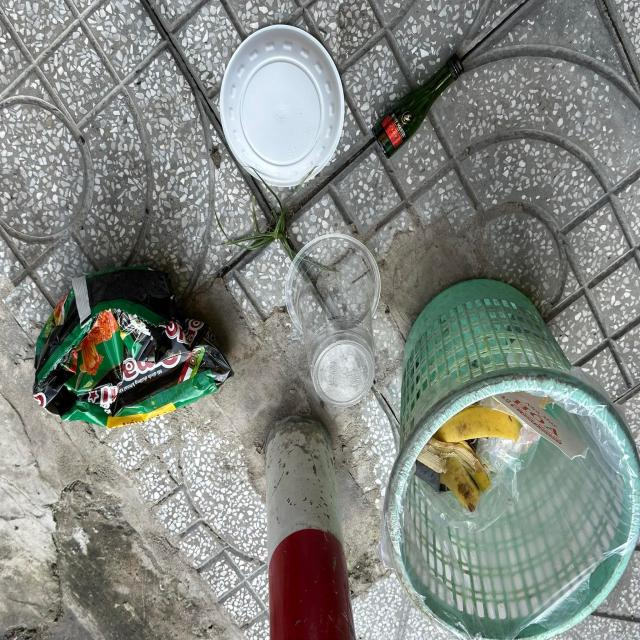bottle: (372, 53, 464, 159)
plastic glass: (285, 234, 382, 407)
plastic holder: (220, 24, 345, 186)
snack package: (32, 268, 236, 428)
